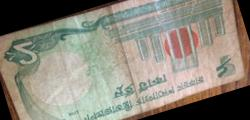2 taka: (8, 0, 234, 120)
